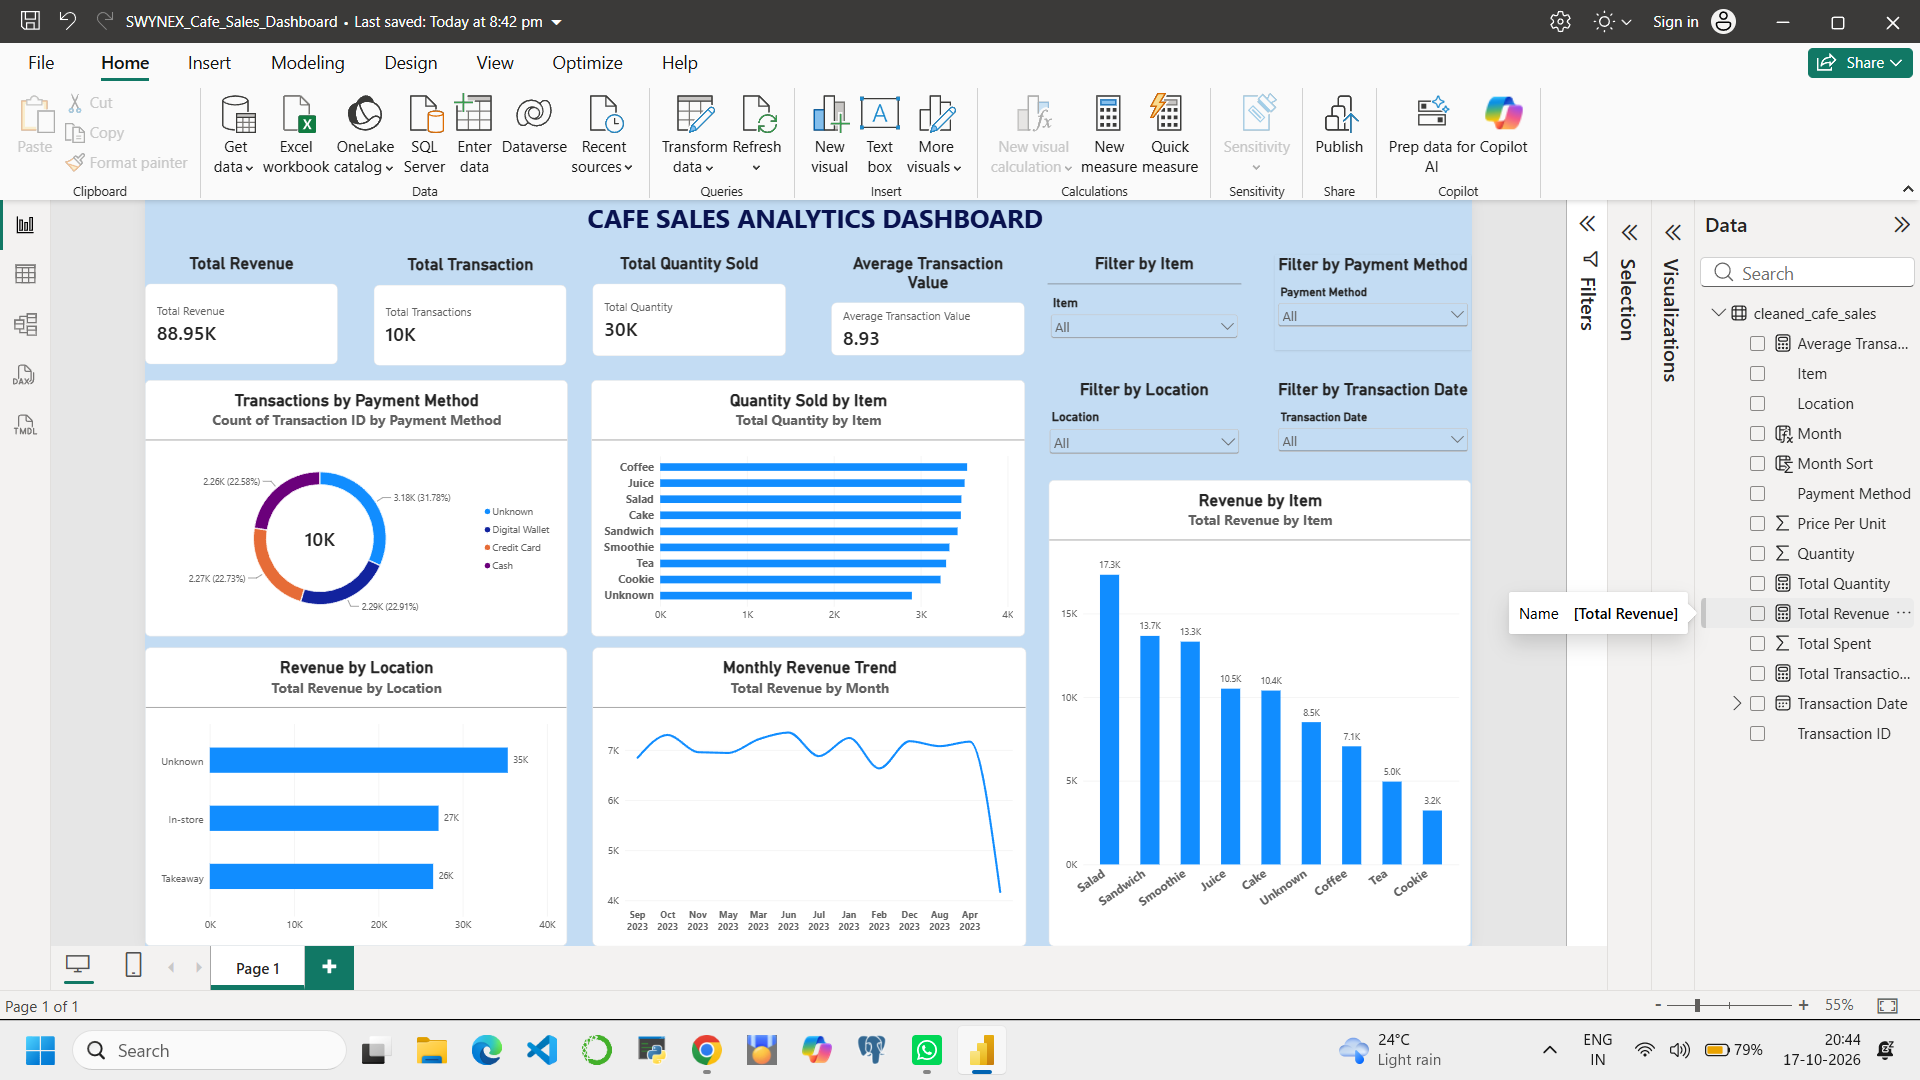

The page's visual inventory and layout, read from the dashboard file:
{"tool":"powerbi","page":{"name":"Cafe Sales Dashboard","canvas":[1920,1080],"ordinal":0},"visuals":[{"type":"cardVisual","title":"Total Revenue","fields":{"Data":["cleaned_cafe_sales.Total Revenue"]},"box":[0,77.8,279.9,160.5],"z":0},{"type":"cardVisual","title":"Total Transaction","fields":{"Data":["cleaned_cafe_sales.Total Transactions"]},"box":[331.2,79.6,279.9,160.5],"z":1},{"type":"cardVisual","title":"Total Quantity Sold","fields":{"Data":["cleaned_cafe_sales.Total Quantity"]},"box":[647.9,92.3,280.5,148.4],"z":2},{"type":"cardVisual","title":"Average Transaction Value","fields":{"Data":["cleaned_cafe_sales.Average Transaction Value"]},"box":[993.5,88.7,280.5,148.4],"z":3},{"type":"clusteredColumnChart","title":"Revenue by Item","fields":{"Category":["cleaned_cafe_sales.Item"],"Y":["cleaned_cafe_sales.Total Revenue"]},"box":[1308.4,405.4,611.3,675.1],"z":4},{"type":"clusteredBarChart","title":"Quantity Sold by Item","fields":{"Category":["cleaned_cafe_sales.Item"],"Y":["cleaned_cafe_sales.Total Quantity"]},"box":[646,260.6,628,371],"z":5},{"type":"lineChart","title":"Monthly Revenue Trend","fields":{"Category":["cleaned_cafe_sales.Month"],"Y":["cleaned_cafe_sales.Total Revenue"]},"box":[647.9,647.9,628,432.5],"z":6},{"type":"donutChart","title":"Transactions by Payment Method","fields":{"Category":["cleaned_cafe_sales.Payment Method"],"Y":["Count(cleaned_cafe_sales.Transaction ID)"]},"box":[0,260.6,611.7,371],"z":7},{"type":"clusteredBarChart","title":"Revenue by Location","fields":{"Category":["cleaned_cafe_sales.Location"],"Y":["cleaned_cafe_sales.Total Revenue"]},"box":[0,648.4,611.3,432.2],"z":8},{"type":"slicer","title":"Filter by Item","fields":{"Values":["cleaned_cafe_sales.Item"]},"box":[1308.4,81.4,280.5,148.4],"z":9},{"type":"slicer","title":"Filter by Payment Method","fields":{"Values":["cleaned_cafe_sales.Payment Method"]},"box":[1635.9,92.3,284.1,137.5],"z":10},{"type":"slicer","title":"Filter by Location","fields":{"Values":["cleaned_cafe_sales.Location"]},"box":[1304.8,260.6,284.1,137.5],"z":11},{"type":"textbox","box":[0,0,1920.1,56.1],"z":12},{"type":"slicer","title":"Filter by Transaction Date","fields":{"Values":["cleaned_cafe_sales.Transaction Date"]},"box":[1635.9,260.6,284.1,137.5],"z":13},{"type":"shape","box":[100,100,300,300],"z":14}]}

Visuals, with their boxes on the page's 1920x1080 design canvas (x1, y1, x2, y2). These are canvas units, not pixel positions in the 1920x1080 screenshot, which may show the page scaled, cropped or inside an application window:
"Total Revenue" cardVisual: (left=0, top=78, right=280, bottom=238)
"Total Transaction" cardVisual: (left=331, top=80, right=611, bottom=240)
"Total Quantity Sold" cardVisual: (left=648, top=92, right=928, bottom=241)
"Average Transaction Value" cardVisual: (left=994, top=89, right=1274, bottom=237)
"Revenue by Item" clusteredColumnChart: (left=1308, top=405, right=1920, bottom=1080)
"Quantity Sold by Item" clusteredBarChart: (left=646, top=261, right=1274, bottom=632)
"Monthly Revenue Trend" lineChart: (left=648, top=648, right=1276, bottom=1080)
"Transactions by Payment Method" donutChart: (left=0, top=261, right=612, bottom=632)
"Revenue by Location" clusteredBarChart: (left=0, top=648, right=611, bottom=1081)
"Filter by Item" slicer: (left=1308, top=81, right=1589, bottom=230)
"Filter by Payment Method" slicer: (left=1636, top=92, right=1920, bottom=230)
"Filter by Location" slicer: (left=1305, top=261, right=1589, bottom=398)
textbox: (left=0, top=0, right=1920, bottom=56)
"Filter by Transaction Date" slicer: (left=1636, top=261, right=1920, bottom=398)
shape: (left=100, top=100, right=400, bottom=400)
